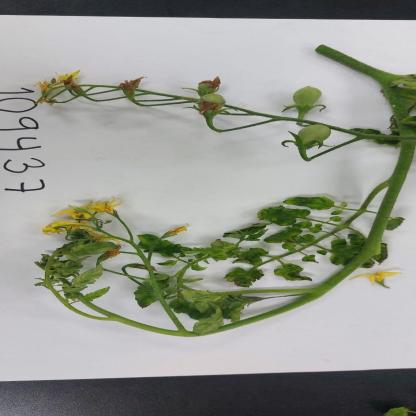T_F_R: (299, 125, 331, 145), (293, 87, 322, 108)
T_Fl_H: (350, 273, 403, 289), (38, 222, 93, 235), (86, 198, 122, 215), (50, 210, 91, 220)
T_Fl_R: (103, 246, 120, 259), (124, 264, 147, 271), (152, 268, 156, 272)
